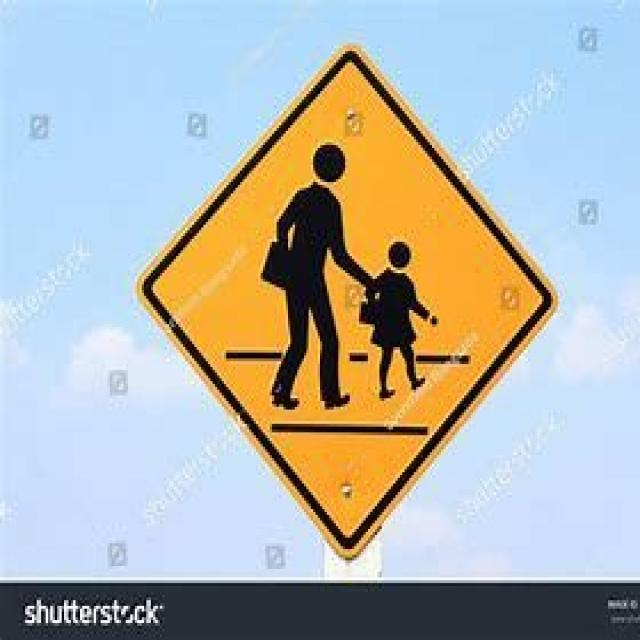school ahead: (134, 42, 559, 555)
